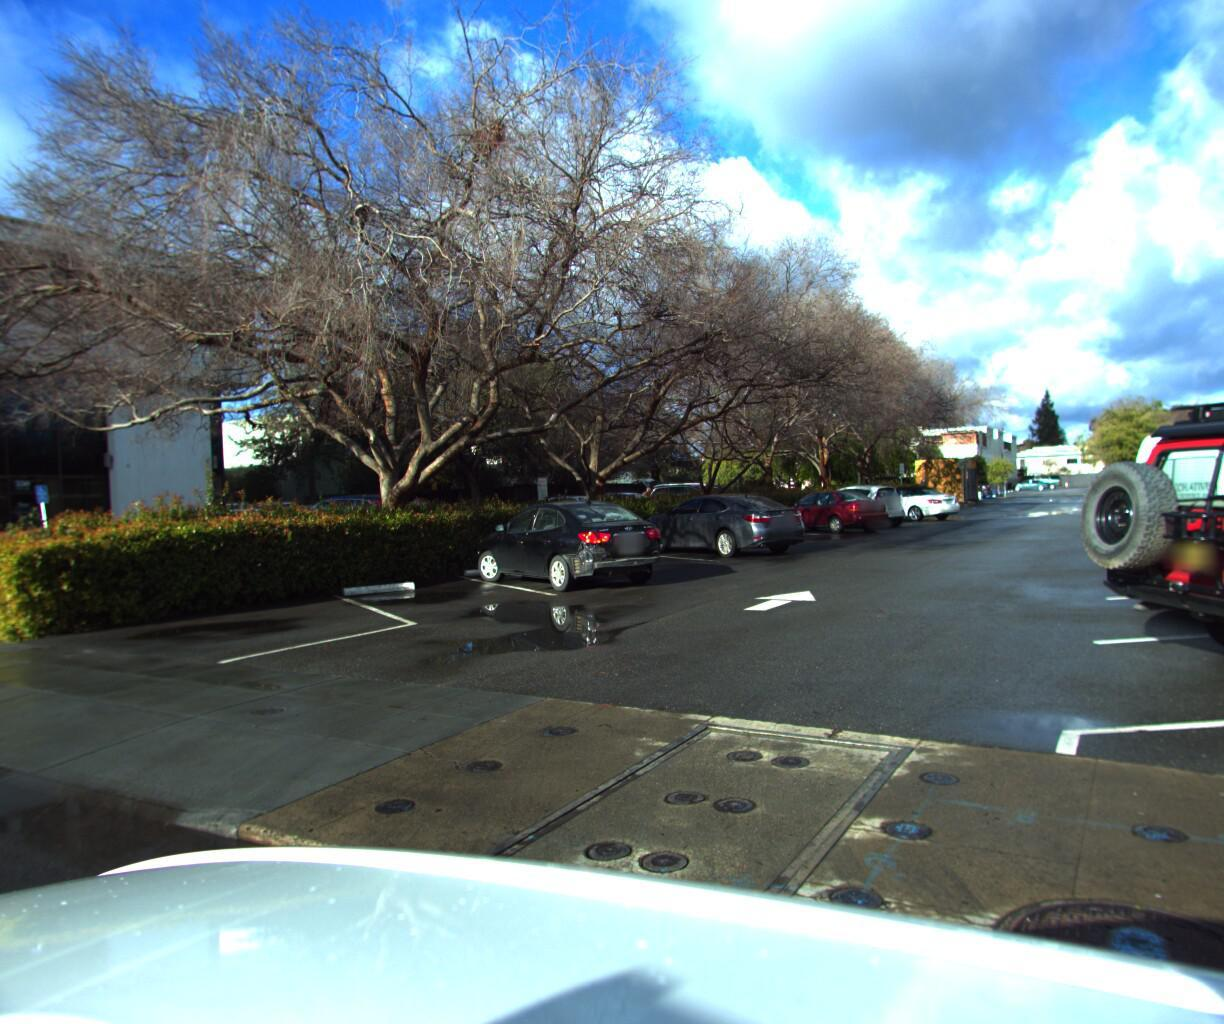car: (1050, 354, 1224, 717), (1106, 398, 1224, 624), (466, 490, 675, 596)
